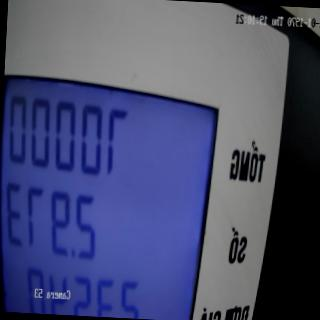screen: (0, 71, 226, 320)
